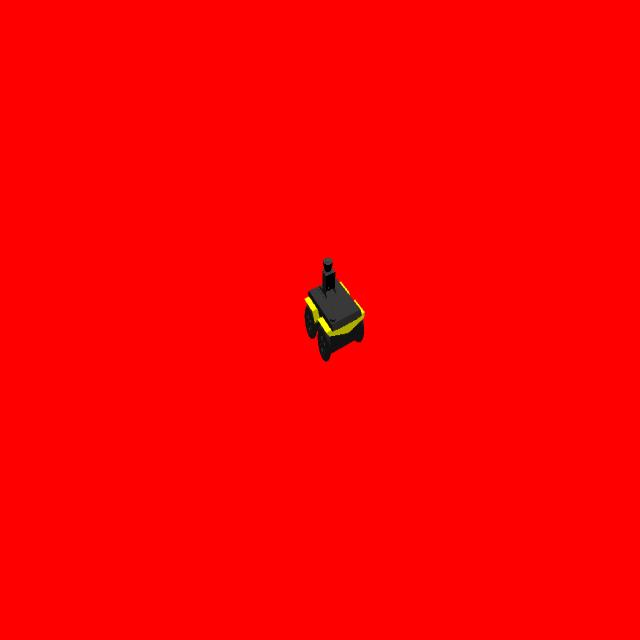jackal: (304, 254, 366, 364)
